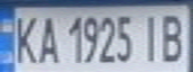1: (63, 11, 84, 64)
2: (97, 11, 118, 64)
5: (115, 10, 139, 64)
9: (78, 11, 100, 64)
A: (33, 11, 60, 64)
B: (154, 9, 190, 63)
I: (136, 10, 166, 63)
K: (9, 11, 42, 65)
